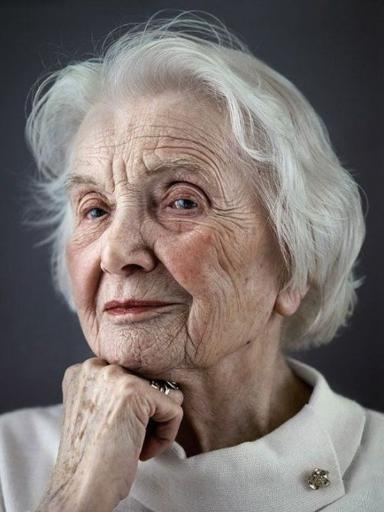left_eye: (163, 194, 204, 216)
left_lip_corner: (166, 299, 186, 314)
right_eye: (82, 205, 112, 226)
right_lip_corner: (100, 304, 116, 321)
